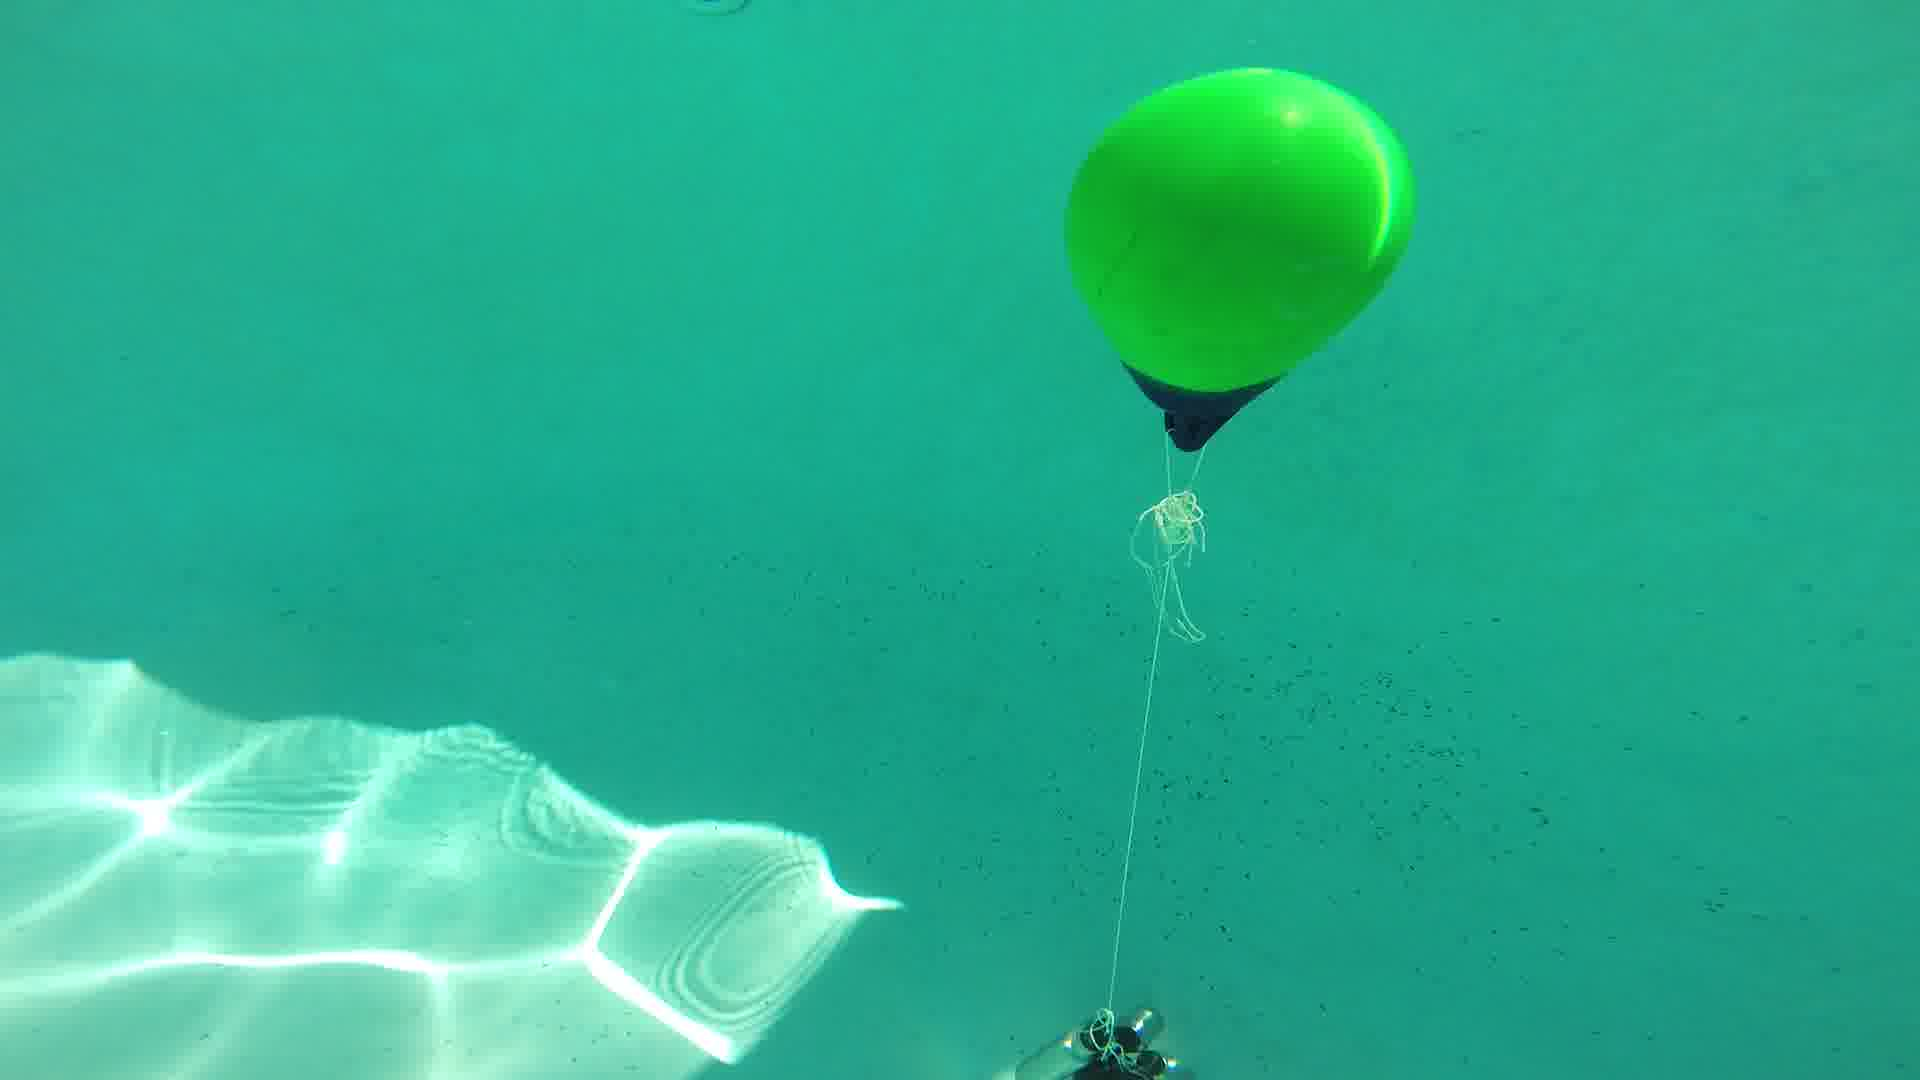yellow_buoy: (1064, 65, 1418, 456)
